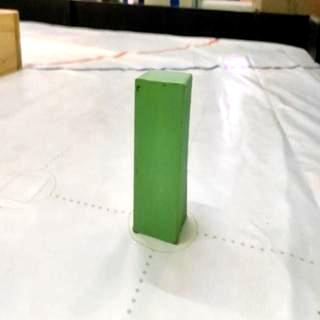greenbox: (132, 66, 192, 246)
